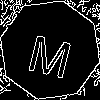M: (25, 25, 77, 80)
